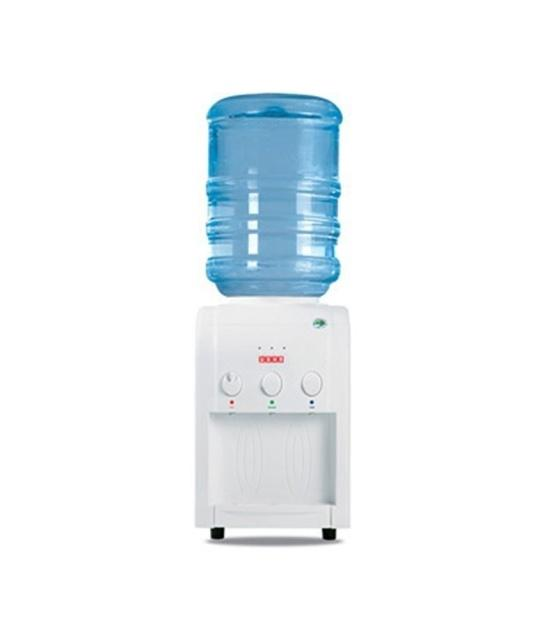Dispenser: (193, 94, 350, 543)
